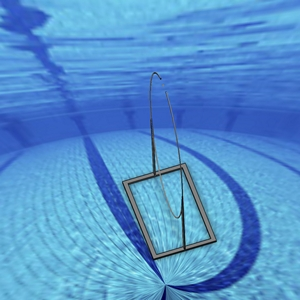circle: (121, 70, 217, 261)
